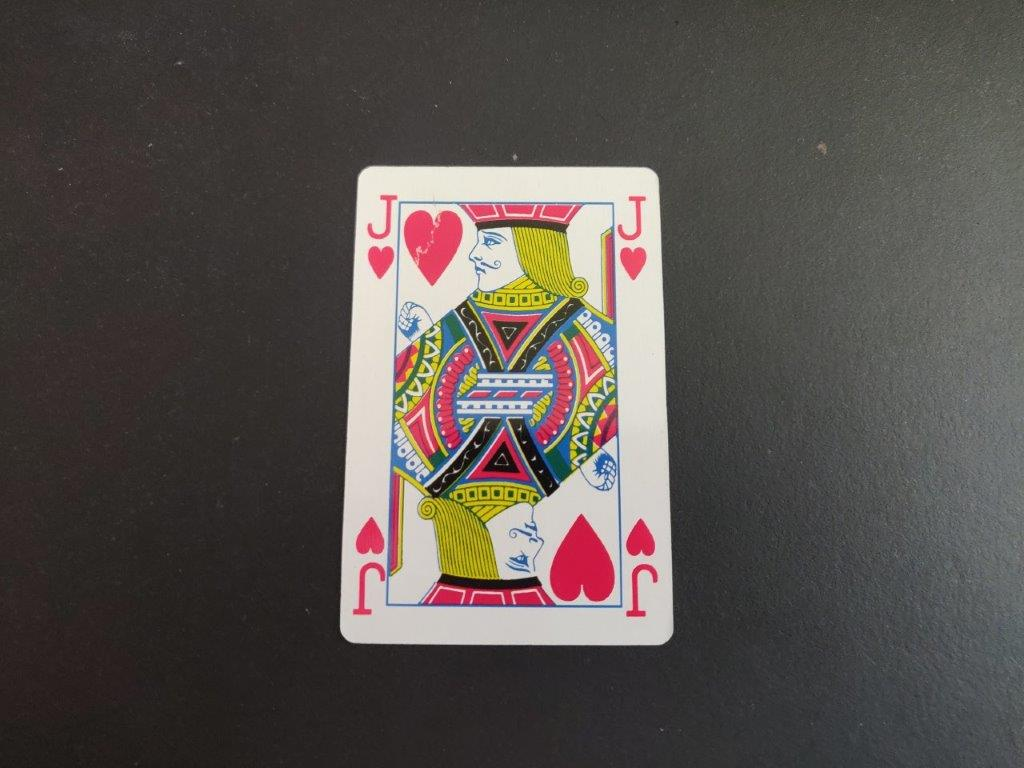JH: (361, 187, 404, 284), (613, 193, 653, 286)
